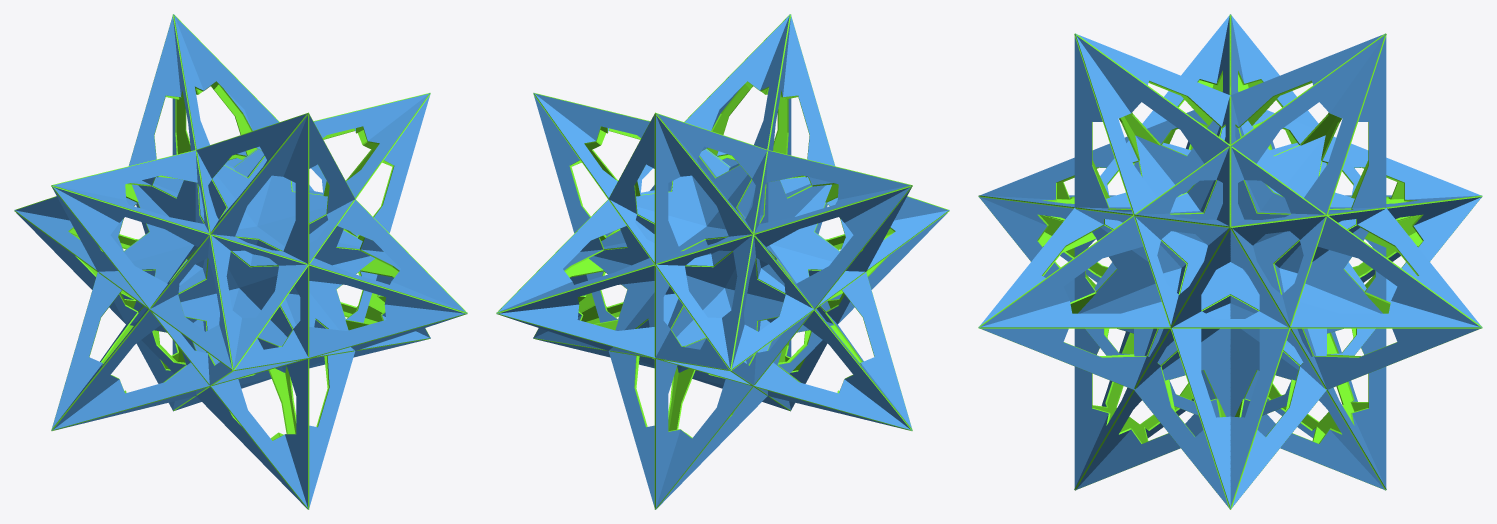
Rendered from GreatIcosahedronS1.glb.
3 renders of one model, left to right at view 1: azimuth 30°, elevation 25°; view 2: azimuth 150°, elevation 25°; view 3: azimuth 270°, elevation 25°, orthographic. The views are drawn at different scales.
Parts seen in each view (by area): view 1: Mesh_0005_1, Mesh_0005; view 2: Mesh_0005_1, Mesh_0005; view 3: Mesh_0005_1, Mesh_0005.
Part boxes in pixels (x1,y1,x2,y2): Mesh_0005_1: (14,14,466,509); Mesh_0005: (14,14,467,509); Mesh_0005_1: (497,14,949,509); Mesh_0005: (496,14,949,509); Mesh_0005_1: (978,14,1482,508); Mesh_0005: (978,14,1482,509).
Size of the model in its own units: 7.5 by 7.5 by 7.5.
